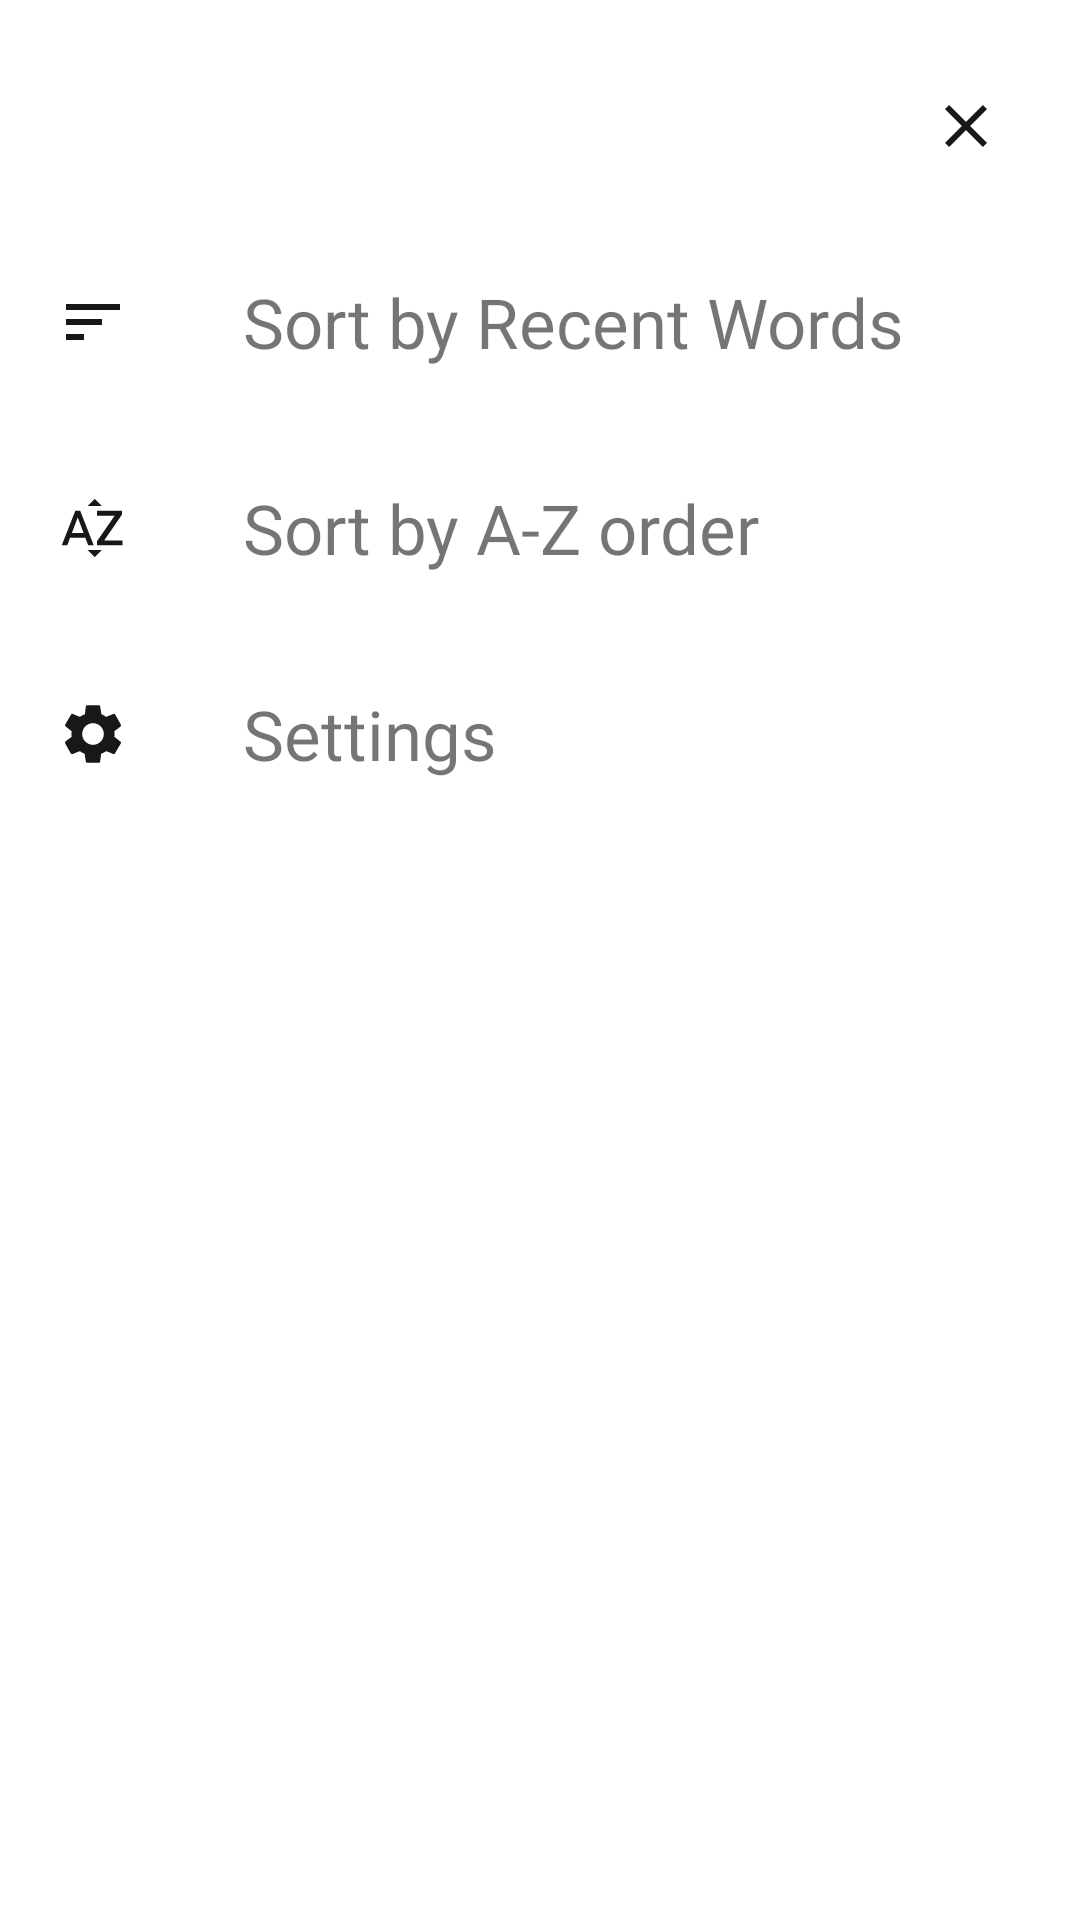

Named icons in this screenshot (1080 × 1920) and their bounding boxes, box(x1, y1, x2, y2):
close: box(945, 105, 987, 147)
